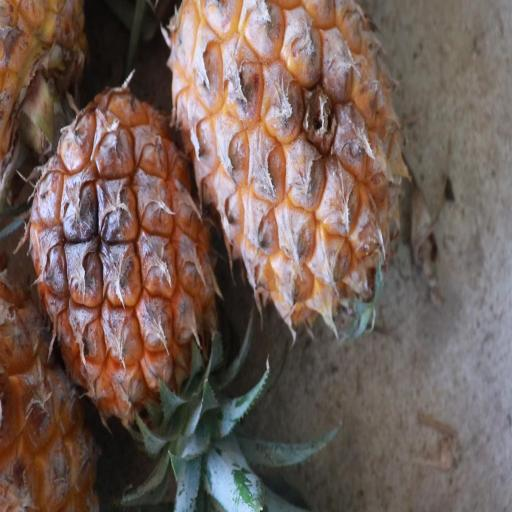Pineapple - v8 v1: (166, 0, 419, 349), (26, 75, 229, 479)
